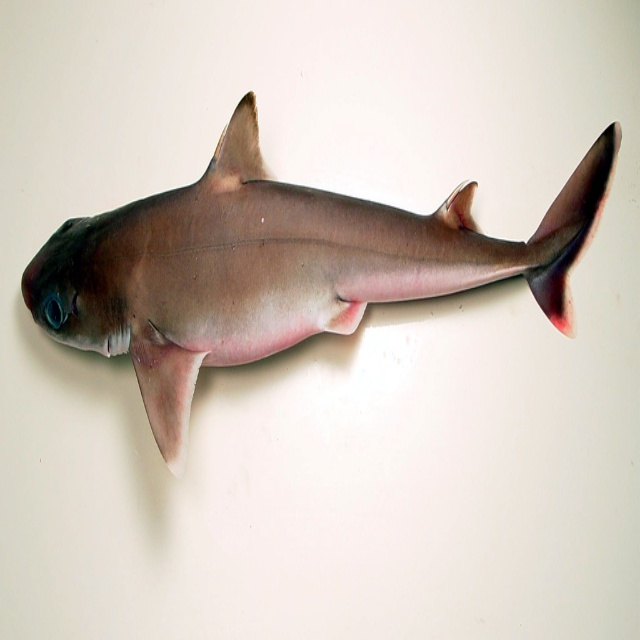Shark: (18, 88, 621, 470)
